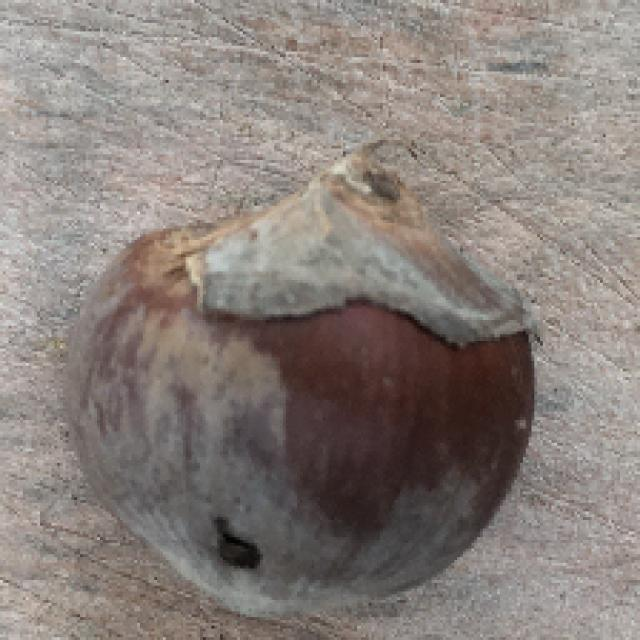damagedHazelnut: (73, 168, 537, 626)
